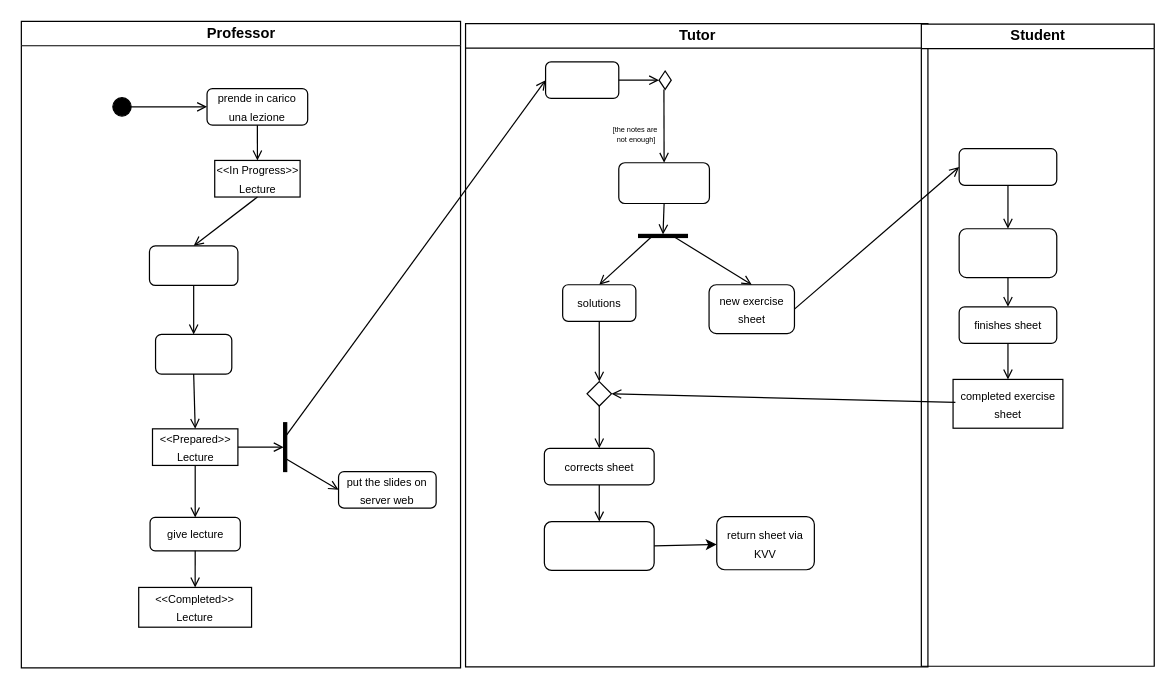
Image size: 1176x689. Some labels were removed from this diagram. Here are the shapes that lost their labels. From the top down, the centre of each, then its label:
At (x=581, y=79): "gets slides".
At (x=663, y=182): "plans a new exercise".
At (x=1007, y=166): "recived the sheet".
At (x=193, y=265): "pianifica una lezione".
At (x=1007, y=253): "works on sheet".
At (x=193, y=353): "prepares slides".
At (x=598, y=545): "graded exercise sheet".
